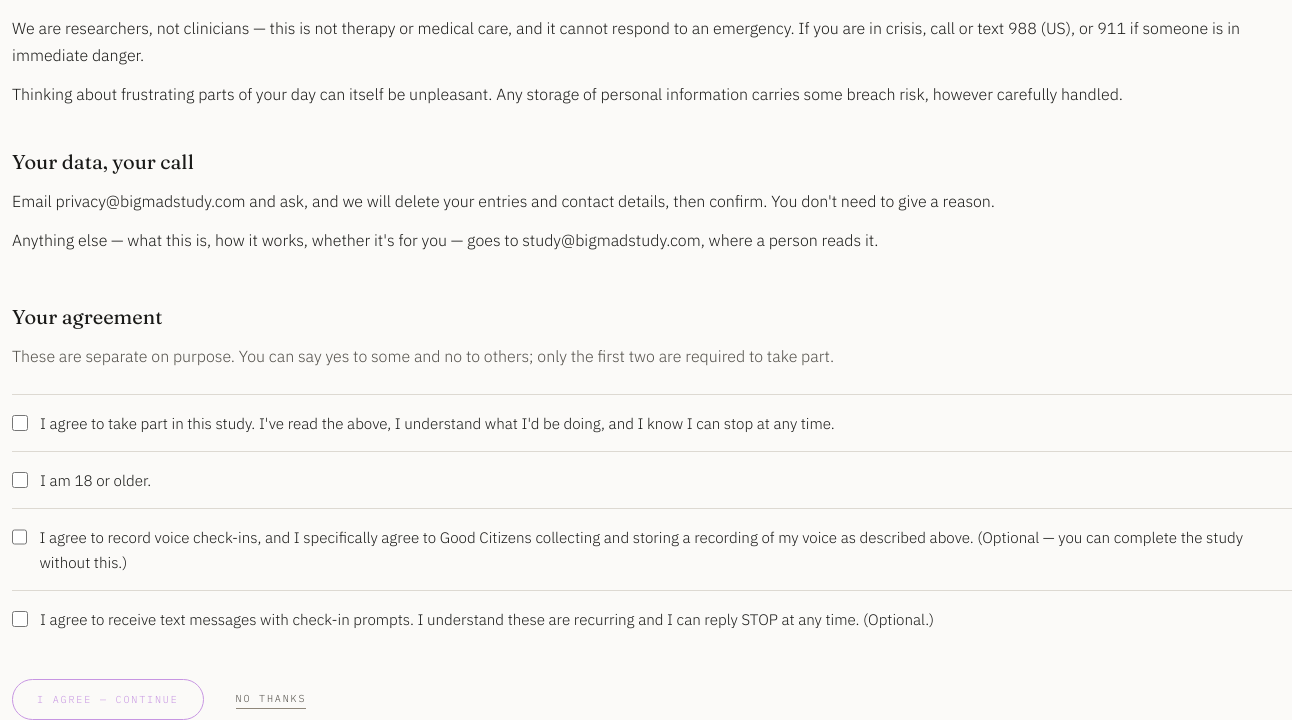
SLICE-00-03 consent gate › GIVEN the visitor accepts › THEN accepting requires the two required agreements
The image size is (1292, 720).
(page scrolled)
Expected: the button "I agree — continue" is disabled, [12,679,204,719]
Click the checkbox labelled "take part in this study": x=20, y=423 [12,415,28,431]
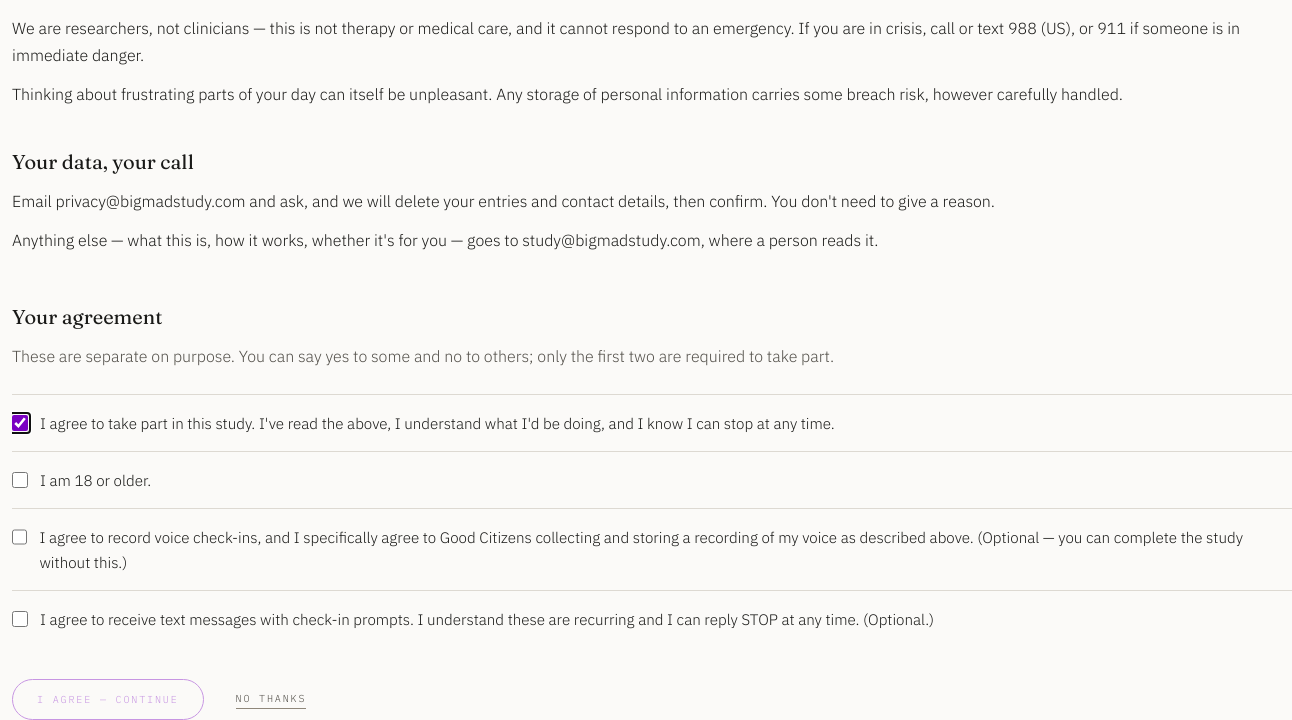
Click the checkbox labelled "I am 18 or older.": x=20, y=480 [12,472,28,488]
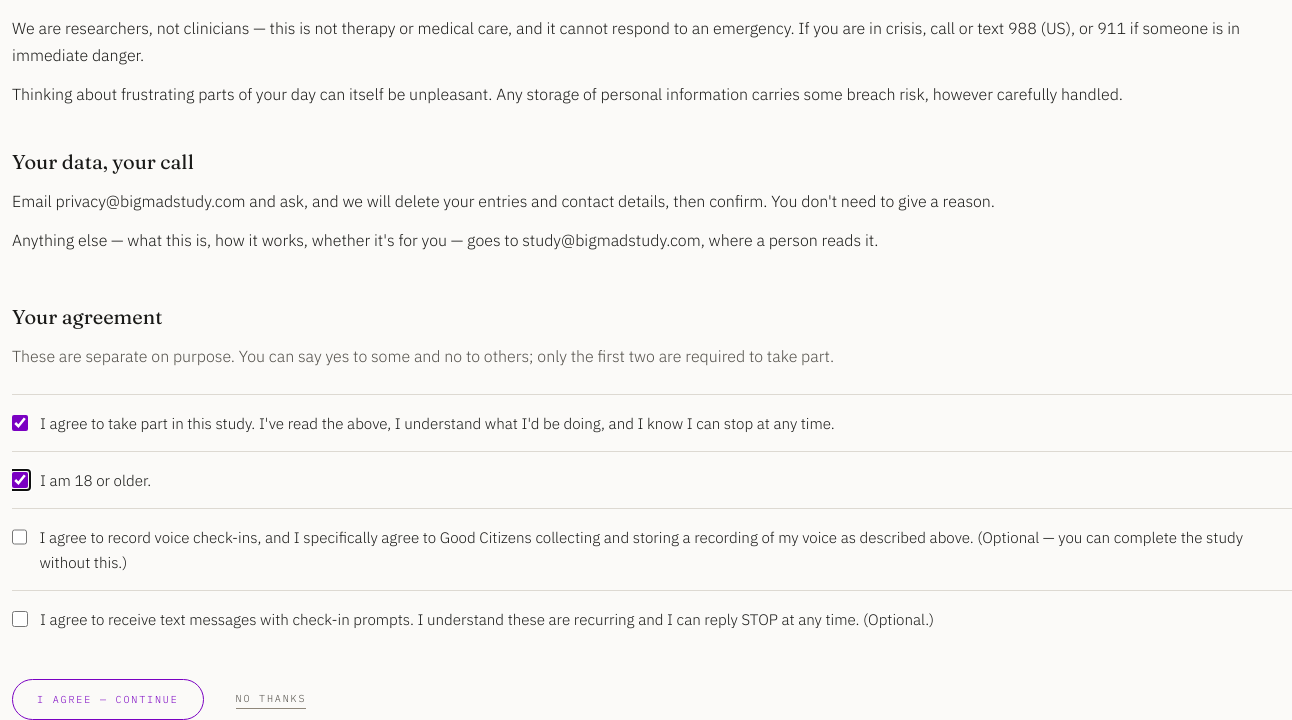
Now the button "I agree — continue" is enabled, box [12,679,204,719]
